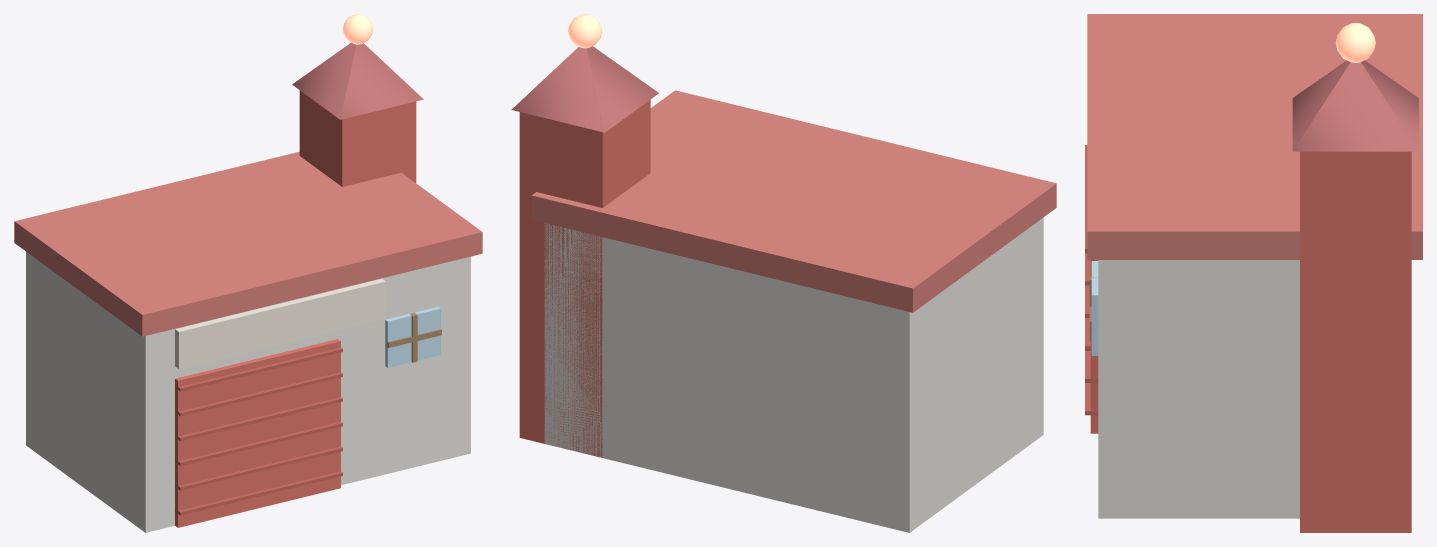
The model's file is pos_damkar.glb.
The picture shows the model from 3 angles, left to right: view 1: azimuth 30°, elevation 25°; view 2: azimuth 150°, elevation 25°; view 3: azimuth 270°, elevation 25°; orthographic projection. The views are drawn at different scales.
Visible parts, largest first — view 1: pos_damkar; view 2: pos_damkar; view 3: pos_damkar.
Boxes of the visible parts, x1=… form: pos_damkar: x1=14, y1=14, x2=482, y2=532; pos_damkar: x1=511, y1=14, x2=1056, y2=532; pos_damkar: x1=1085, y1=14, x2=1422, y2=532.
Bounding box in the file's own units: 2.43 × 2.39 × 1.51.
